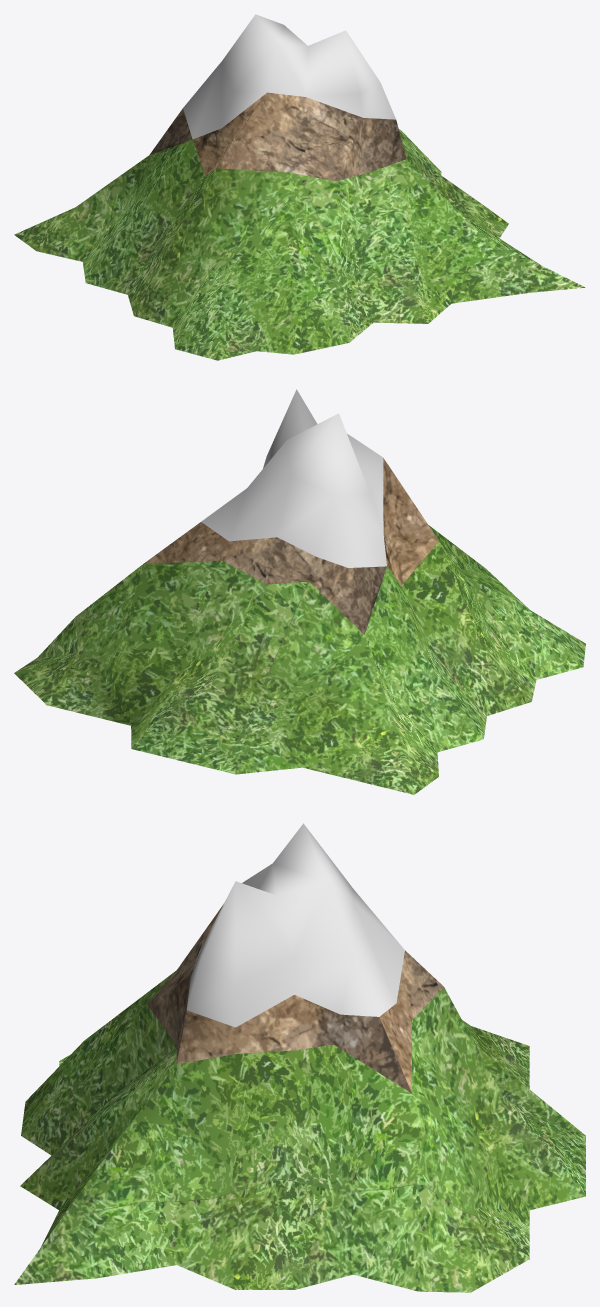
Rendered from Mountain002.fbx.
The picture shows the model from 3 angles, top to bottom: view 1: azimuth 30°, elevation 25°; view 2: azimuth 150°, elevation 25°; view 3: azimuth 270°, elevation 25°; orthographic projection. The views are drawn at different scales.
Visible parts, largest first — view 1: Cube; view 2: Cube; view 3: Cube.
Part boxes in pixels (x1,y1,x2,y2): Cube: (14,14,585,360); Cube: (14,389,585,794); Cube: (14,823,585,1292).
Bounding box in the file's own units: 248 × 151 × 243.
